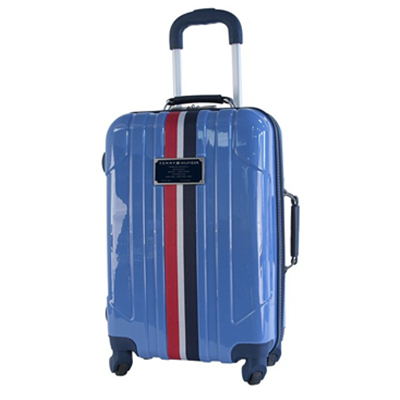luggage: (101, 8, 297, 385)
